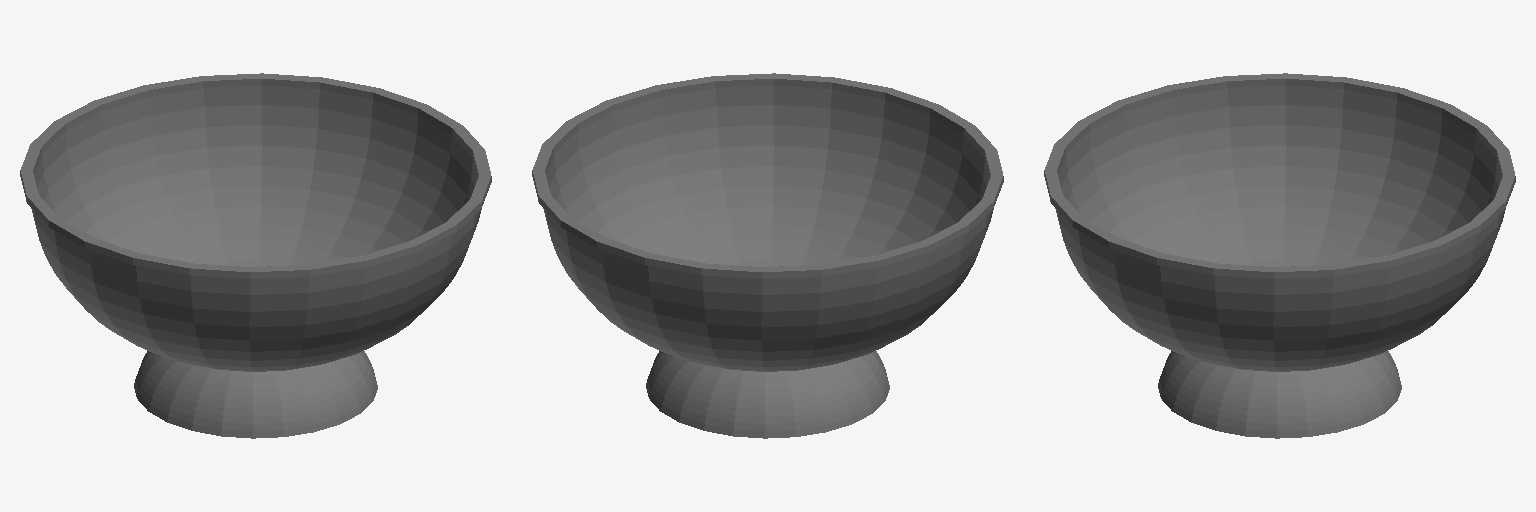
robot.urdf — object:
<?xml version="1.0"?>
<robot name="object">
  <link name="object">
    <visual>
      <origin xyz="0 0 0"/>
      <geometry>
        <mesh
          filename="../../mesh/oakink_virtual/bowl_s153.stl" />
      </geometry>
      <material name="mat">
        <color rgba="0.5 0.5 0.5 1"/>
      </material>
    </visual>

    <collision>
      <origin xyz="0 0 0"/>
      <geometry>
        <mesh
          filename="../../mesh/oakink_virtual/bowl_s153.stl" />
      </geometry>
    </collision>
  </link>
</robot>

--- Render facts (derived) ---
Views: 3 orthographic renders of the robot side by side, from view 1: azimuth 30°, elevation 25°; view 2: azimuth 150°, elevation 25°; view 3: azimuth 270°, elevation 25°.
Robot: object — 1 links, 0 joints (none); root link object; default pose: every joint at zero.
Visible links, largest first — view 1: object; view 2: object; view 3: object.
Boxes of the visible links, x1,y1,x2,y2 form: object: (20,73,491,438); object: (532,73,1003,438); object: (1044,73,1515,438).
Bounding box of the posed robot: 0.1446 × 0.1446 × 0.0725 m (x, y, z).
Meshes: 1 distinct files referenced, 1 mesh visuals loaded (1 binary STL).
